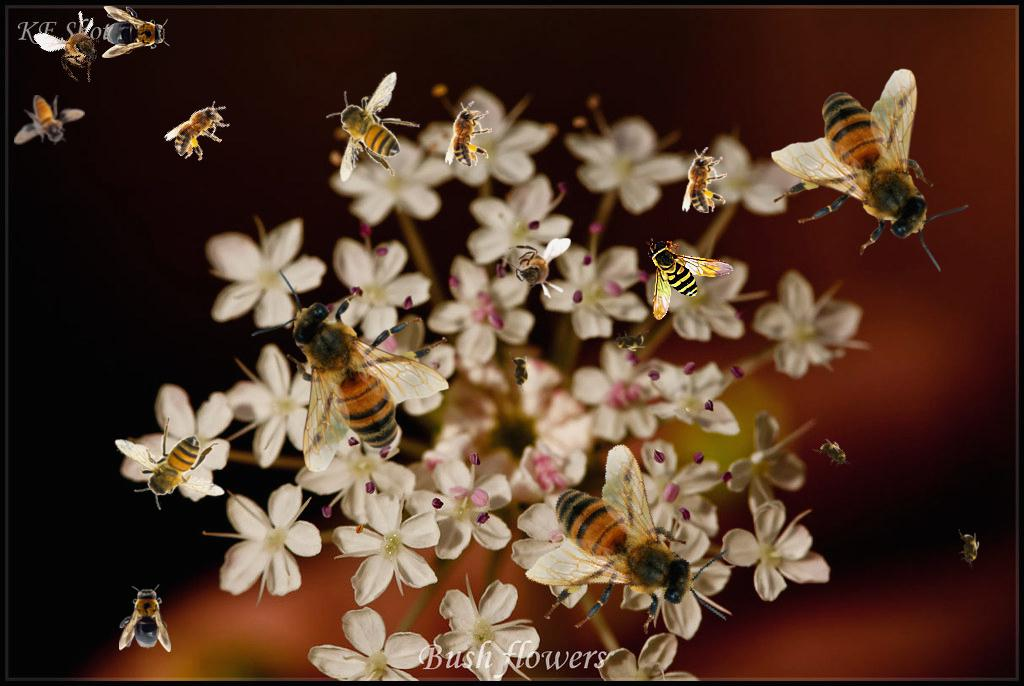Bee: (493, 420, 754, 684), (771, 68, 970, 272), (250, 269, 449, 473), (114, 416, 225, 510), (326, 71, 420, 182), (32, 0, 123, 94), (646, 238, 734, 320), (162, 90, 240, 169), (501, 238, 571, 299), (14, 95, 85, 145), (119, 584, 171, 652), (102, 6, 170, 58), (444, 99, 494, 168), (682, 147, 727, 213), (811, 432, 857, 476), (509, 352, 531, 392), (958, 529, 980, 569), (609, 330, 649, 352)
